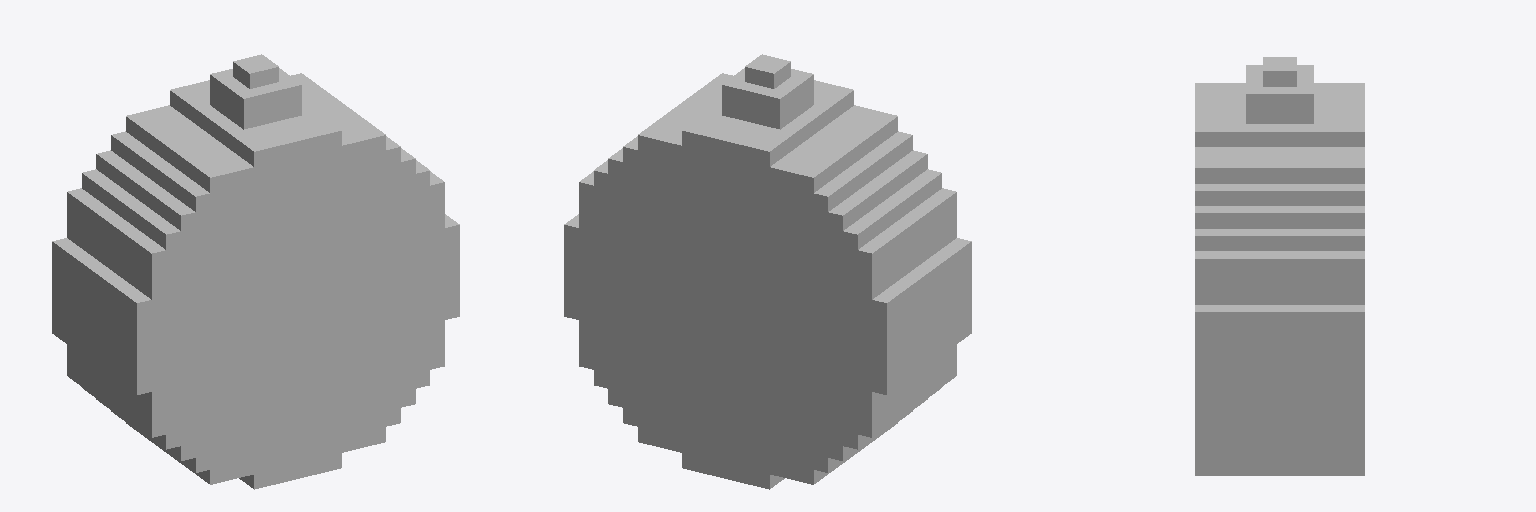
Rendered from Going Down 1.obj.
The picture shows the model from 3 angles: view 1: azimuth 30°, elevation 25°; view 2: azimuth 150°, elevation 25°; view 3: azimuth 270°, elevation 25°; orthographic projection.
Bounding box in the file's own units: 22 × 25 × 10.